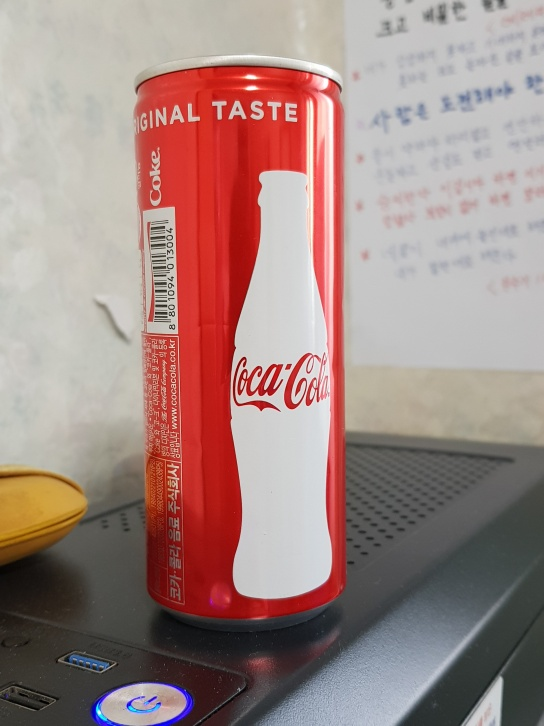Can: (129, 51, 352, 629)
